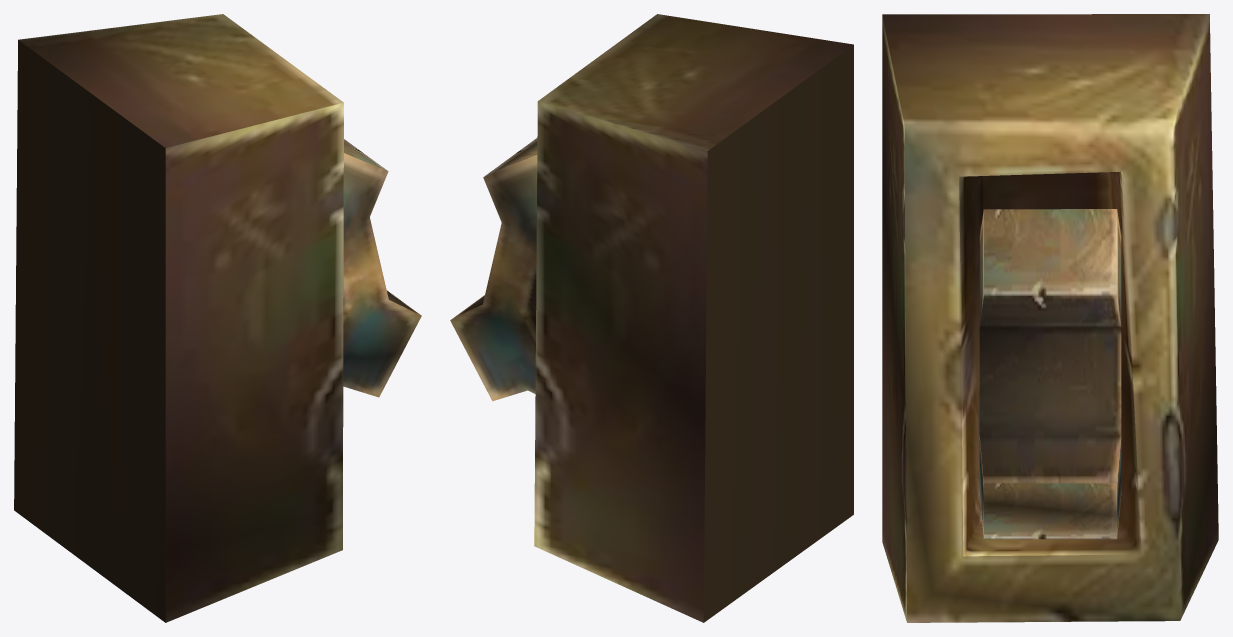
The picture shows the model from 3 angles, left to right: view 1: azimuth 30°, elevation 25°; view 2: azimuth 150°, elevation 25°; view 3: azimuth 270°, elevation 25°; orthographic projection. The views are drawn at different scales.
Size of the model in its own units: 0.5026 by 0.7557 by 0.4368.
Materials: 2 (2 with a texture image).
